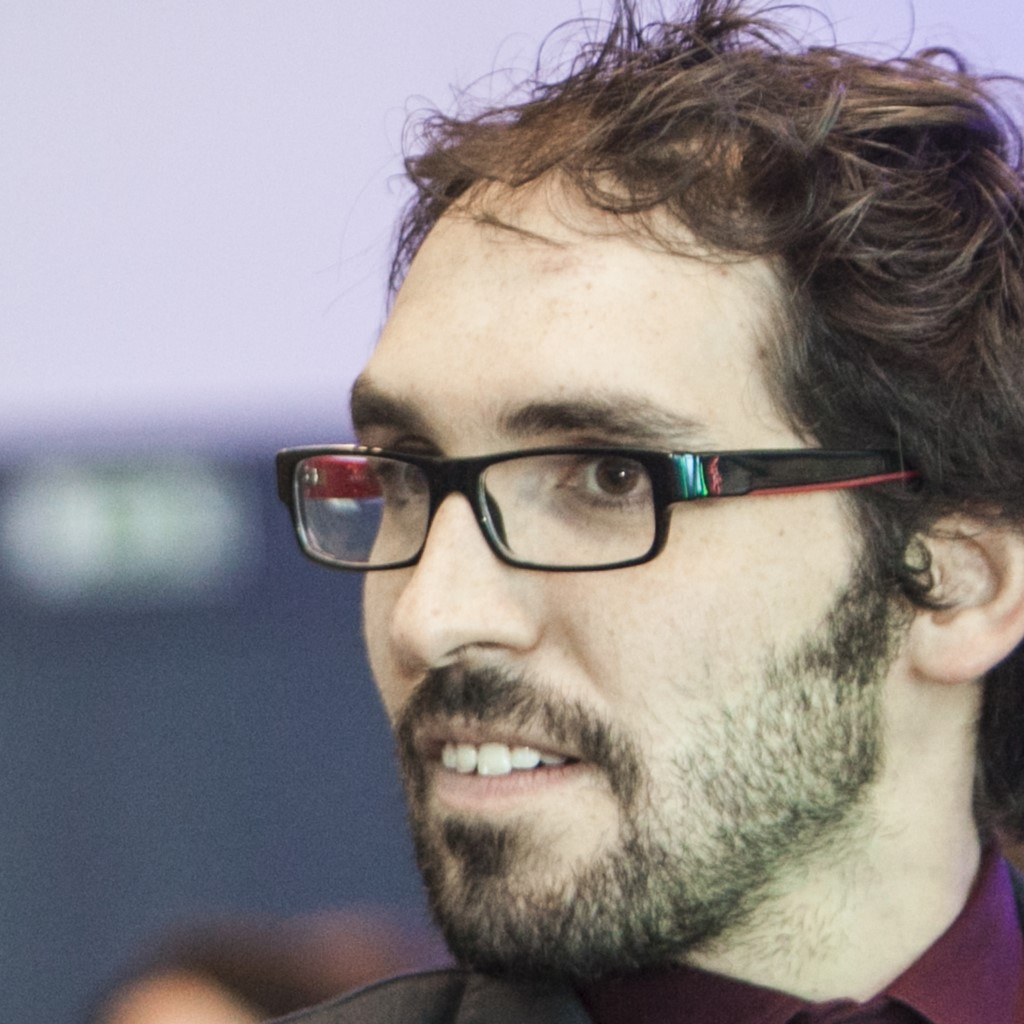sin_mascara: (361, 144, 895, 980)
